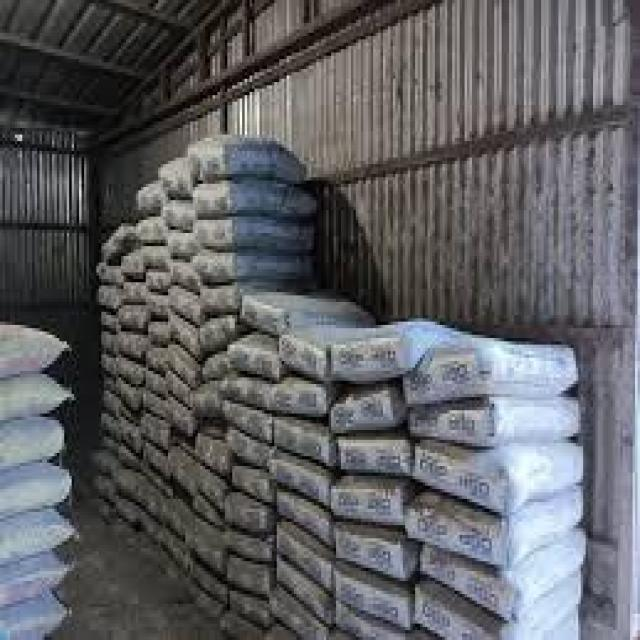gunny_bag: (420, 537, 592, 620), (421, 392, 585, 446), (239, 287, 374, 337), (414, 451, 505, 516), (415, 508, 503, 567), (191, 142, 306, 185), (195, 216, 316, 256), (192, 183, 321, 219), (199, 252, 317, 287), (408, 354, 486, 406), (339, 573, 407, 629), (278, 560, 332, 620), (339, 530, 403, 580), (268, 454, 326, 508), (339, 337, 407, 383), (281, 523, 332, 584), (271, 418, 330, 468), (342, 440, 410, 477), (338, 396, 394, 437), (224, 399, 274, 444), (281, 330, 325, 377), (338, 485, 397, 520), (271, 385, 329, 416), (225, 492, 272, 530), (233, 342, 277, 380), (229, 556, 268, 598), (185, 532, 223, 572), (168, 290, 204, 326), (196, 430, 226, 473), (202, 316, 234, 354), (229, 592, 265, 625), (139, 411, 170, 449), (232, 468, 267, 500), (135, 484, 167, 518), (172, 347, 195, 387), (99, 283, 124, 314), (118, 356, 146, 383), (140, 187, 166, 216), (144, 245, 176, 268), (168, 206, 195, 232), (122, 307, 143, 332), (146, 349, 167, 374), (122, 284, 148, 302)
